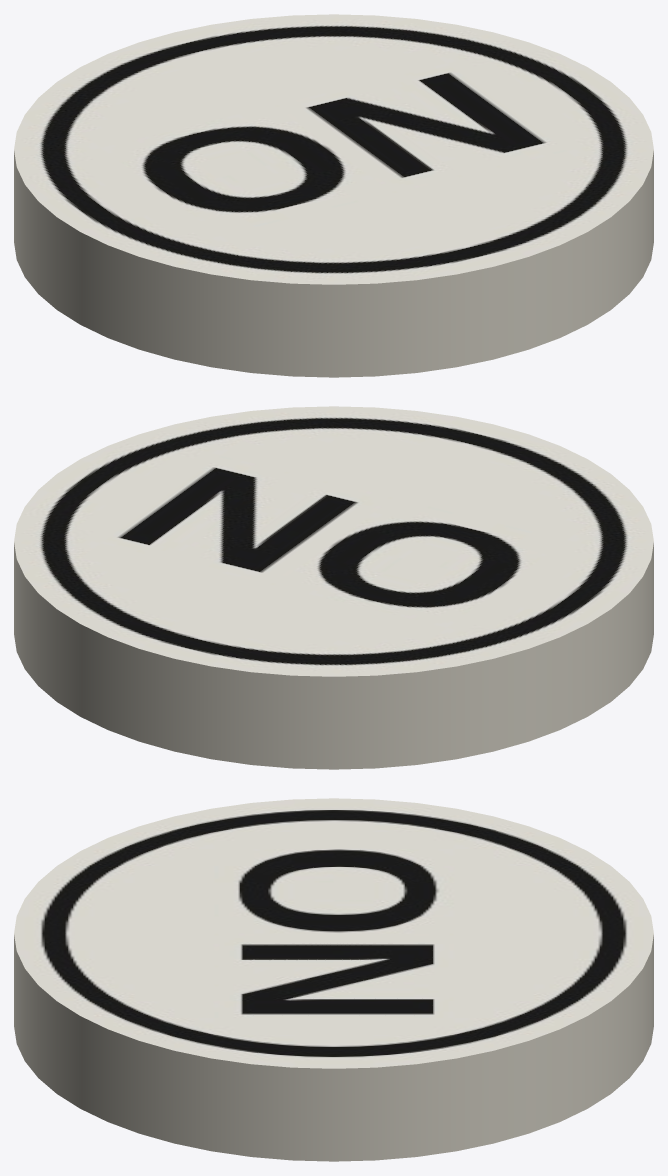
Rendered from craps_puck.glb.
The picture shows the model from 3 angles, top to bottom: view 1: azimuth 30°, elevation 25°; view 2: azimuth 150°, elevation 25°; view 3: azimuth 270°, elevation 25°; orthographic projection.
Parts seen in each view (by area): view 1: Puck; view 2: Puck; view 3: Puck.
Part boxes in pixels (<box>): Puck: <box>14,14,653,377</box>; Puck: <box>14,406,653,769</box>; Puck: <box>14,798,653,1161</box>.
Bounding box in the file's own units: 0.075 × 0.012 × 0.075.
3 materials, 2 textured.
